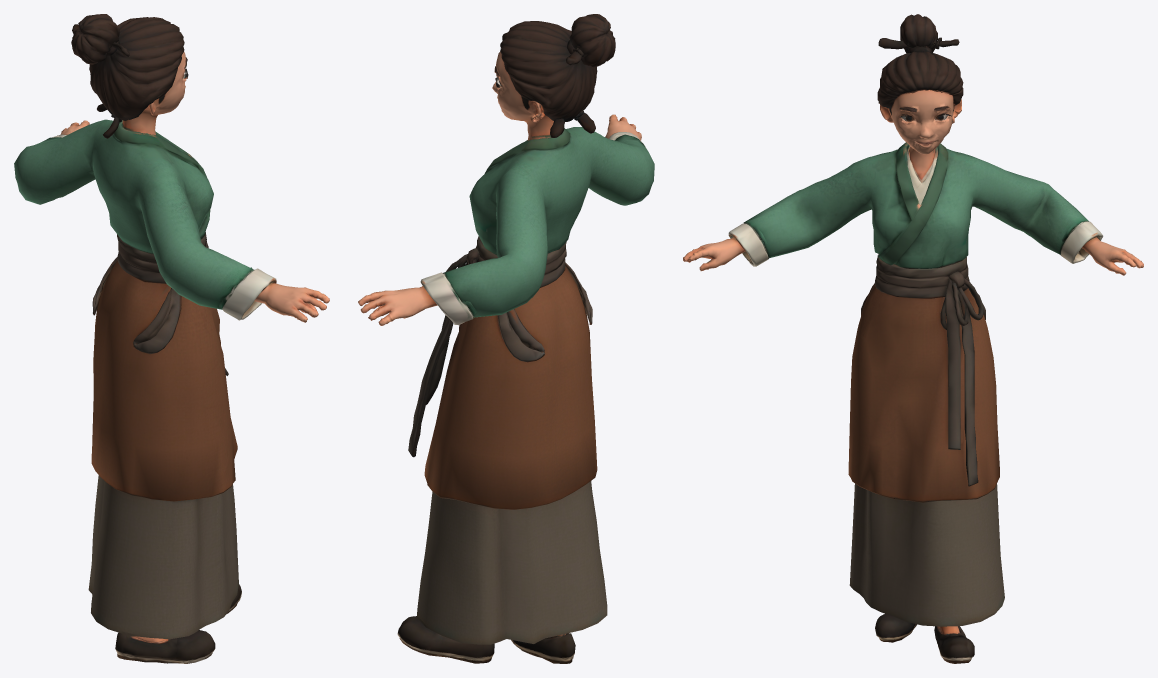
The model's file is generation.glb.
3 renders of one model, left to right at view 1: azimuth 30°, elevation 25°; view 2: azimuth 150°, elevation 25°; view 3: azimuth 270°, elevation 25°, orthographic. The views are drawn at different scales.
Parts seen in each view (by area): view 1: tripo_node_f53a882c-77d3-43ad-a9aa-dbee3687de01; view 2: tripo_node_f53a882c-77d3-43ad-a9aa-dbee3687de01; view 3: tripo_node_f53a882c-77d3-43ad-a9aa-dbee3687de01.
Part boxes in pixels (bbox=[...]): tripo_node_f53a882c-77d3-43ad-a9aa-dbee3687de01: bbox=[14, 14, 329, 663]; tripo_node_f53a882c-77d3-43ad-a9aa-dbee3687de01: bbox=[358, 14, 654, 663]; tripo_node_f53a882c-77d3-43ad-a9aa-dbee3687de01: bbox=[683, 14, 1143, 663].
Bounding box in the file's own units: 0.3027 × 0.998 × 0.7129.
1 material, 1 textured.
